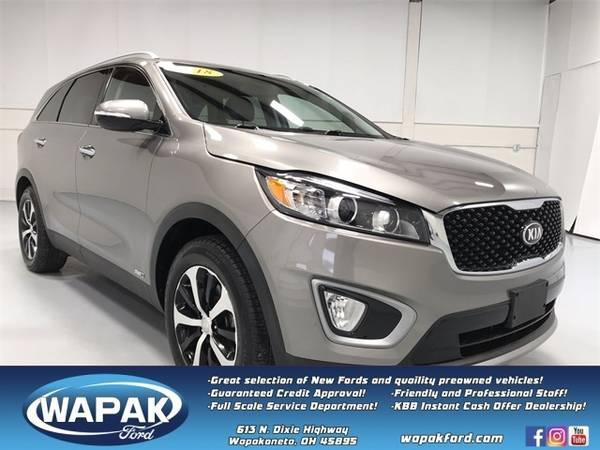Front_Bumper: (238, 211, 568, 368)
Front_Fender: (145, 123, 277, 306)
Front_Right_Door: (79, 125, 169, 301)
Front_Right_Window: (93, 65, 172, 135)
Front_Windshield: (165, 63, 400, 142)
Grille: (432, 194, 564, 274)
Hood: (199, 122, 556, 212)
Rear_Fender: (14, 83, 70, 188)
Rear_Right_Door: (31, 120, 90, 260)
Rear_Right_Window: (56, 67, 112, 125)
Right_Headlight: (258, 167, 433, 246)
Roof: (51, 52, 224, 126)
Wheel: (164, 245, 271, 408), (17, 190, 74, 280)
